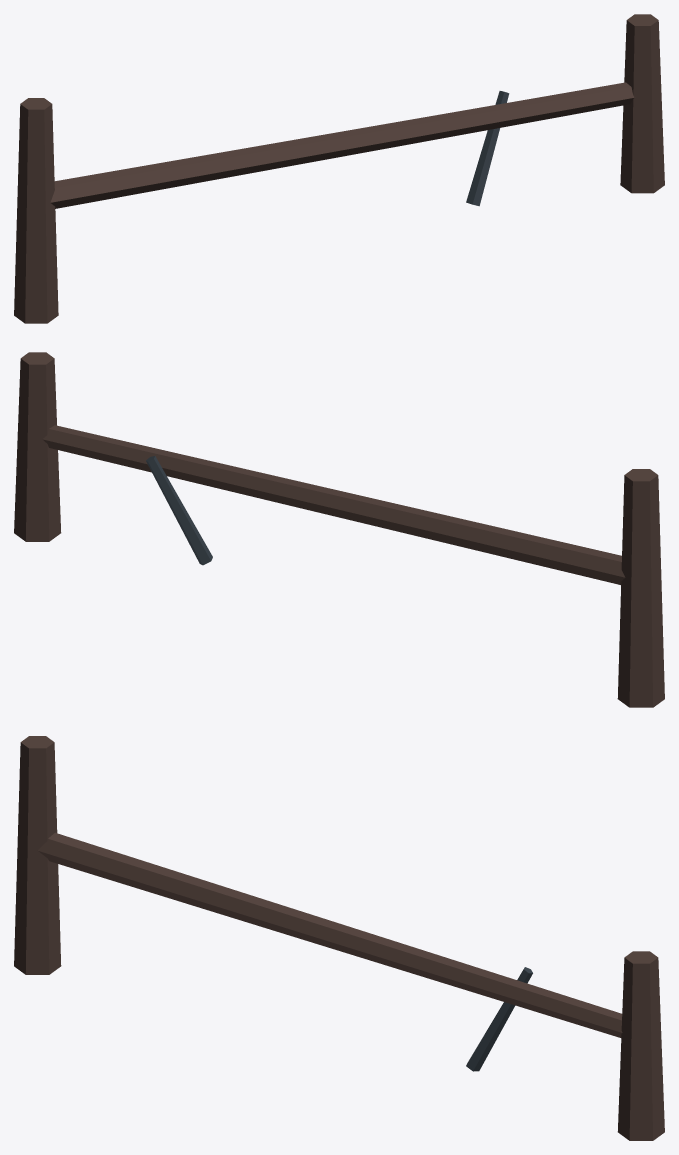
The model's file is EXTG_SouthFence_00.glb.
The picture shows the model from 3 angles, top to bottom: view 1: azimuth 30°, elevation 25°; view 2: azimuth 150°, elevation 25°; view 3: azimuth 330°, elevation 25°; orthographic projection. The views are drawn at different scales.
Visible parts, largest first — view 1: EXTG_SouthFence_00; view 2: EXTG_SouthFence_00; view 3: EXTG_SouthFence_00.
Part boxes in pixels (x1=…): EXTG_SouthFence_00: x1=14, y1=14, x2=664, y2=323; EXTG_SouthFence_00: x1=14, y1=352, x2=664, y2=707; EXTG_SouthFence_00: x1=14, y1=736, x2=664, y2=1140.
Bounding box in the file's own units: 3.38 × 1.1 × 0.38.
